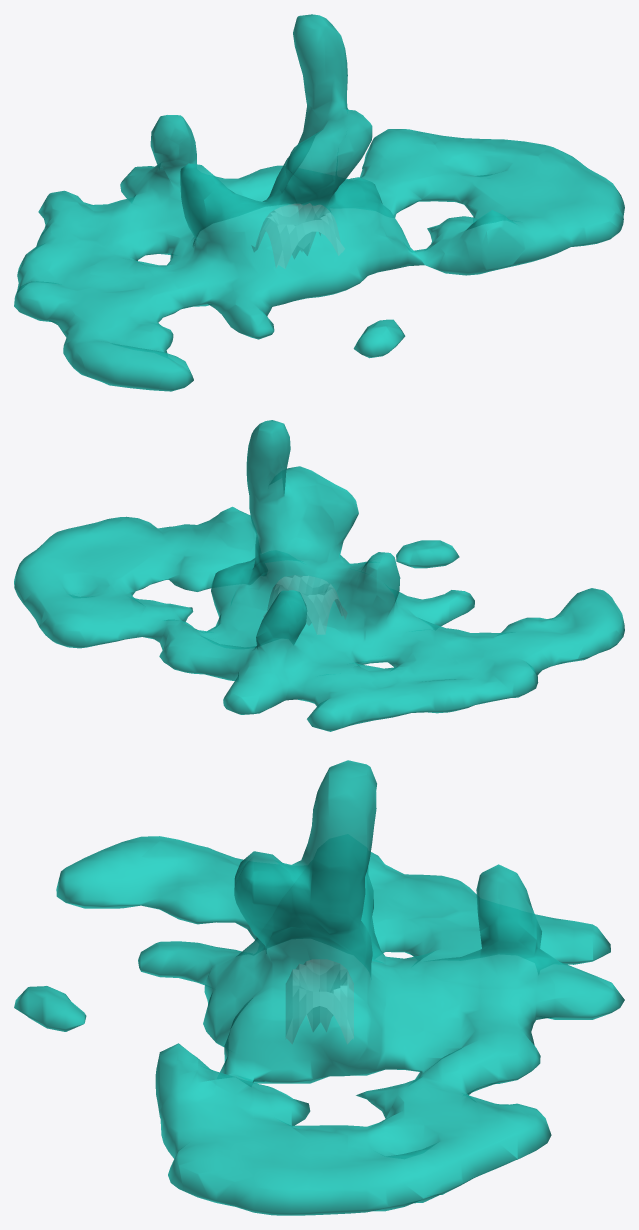
3 views of the same model, one above another, from view 1: azimuth 30°, elevation 25°; view 2: azimuth 150°, elevation 25°; view 3: azimuth 270°, elevation 25° (orthographic). The views are drawn at different scales.
Visible parts, largest first — view 1: Liquid_Domain, グリッド; view 2: Liquid_Domain, グリッド; view 3: Liquid_Domain, グリッド.
Boxes of the visible parts, x1=… form: Liquid_Domain: x1=14, y1=14, x2=624, y2=391; グリッド: x1=252, y1=203, x2=344, y2=268; Liquid_Domain: x1=14, y1=420, x2=624, y2=731; グリッド: x1=263, y1=575, x2=347, y2=634; Liquid_Domain: x1=14, y1=760, x2=624, y2=1215; グリッド: x1=286, y1=959, x2=353, y2=1043.
Size of the model in its own units: 3.71 by 1.43 by 2.68.
